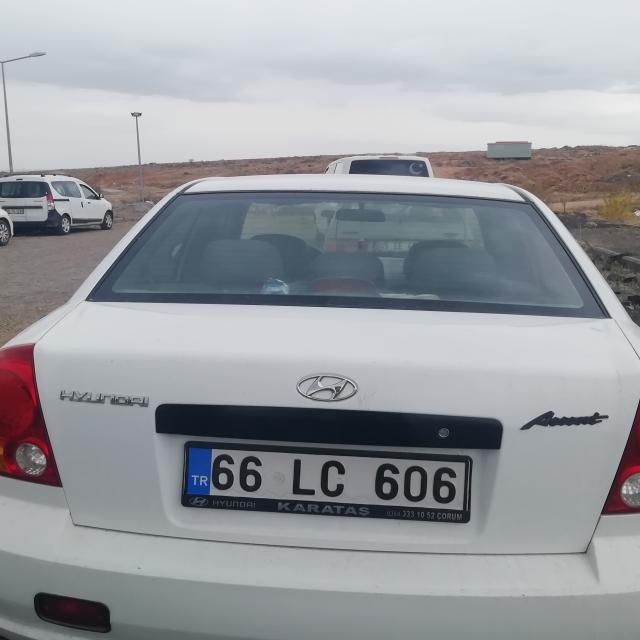license_plate: (183, 442, 471, 519)
